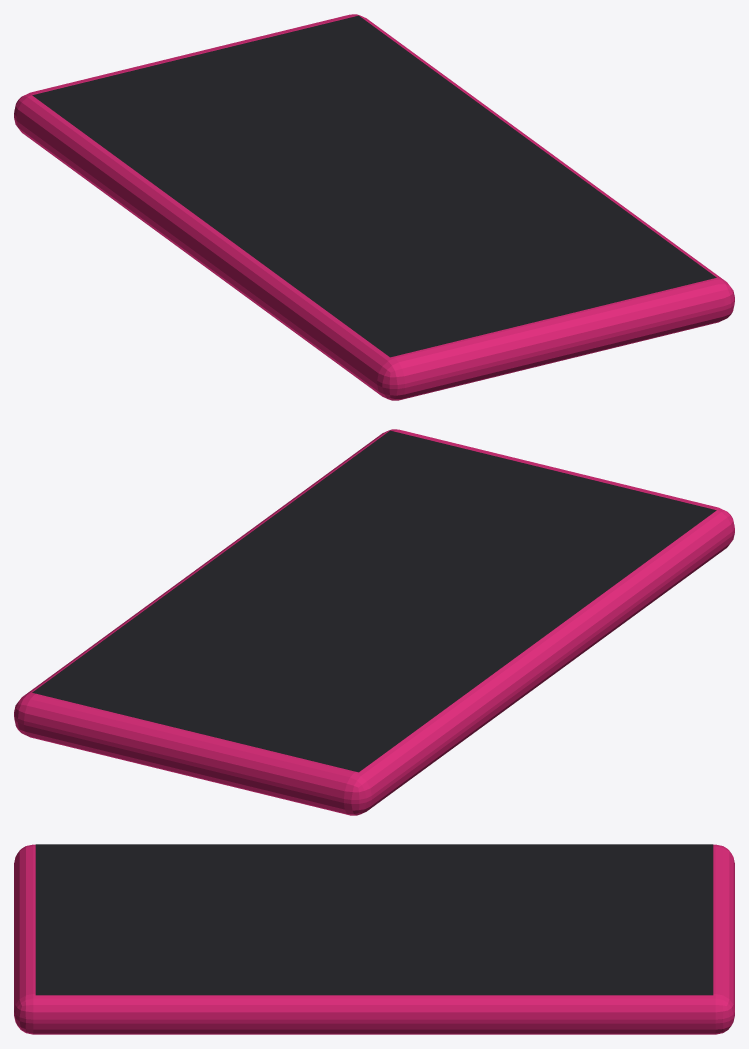
Rendered from poco-gen-2026-mid-range-2026.glb.
3 renders of one model, top to bottom at view 1: azimuth 30°, elevation 25°; view 2: azimuth 150°, elevation 25°; view 3: azimuth 270°, elevation 25°, orthographic. The views are drawn at different scales.
Parts seen in each view (by area): view 1: Phone_Screen, Phone_Body; view 2: Phone_Screen, Phone_Body; view 3: Phone_Screen, Phone_Body.
Part boxes in pixels (<box>): Phone_Screen: <box>32,15,716,357</box>; Phone_Body: <box>14,14,734,400</box>; Phone_Screen: <box>32,430,716,772</box>; Phone_Body: <box>14,429,734,815</box>; Phone_Screen: <box>35,844,713,995</box>; Phone_Body: <box>14,844,734,1034</box>.
Size of the model in its own units: 0.0761 by 0.0085 by 0.1414.
